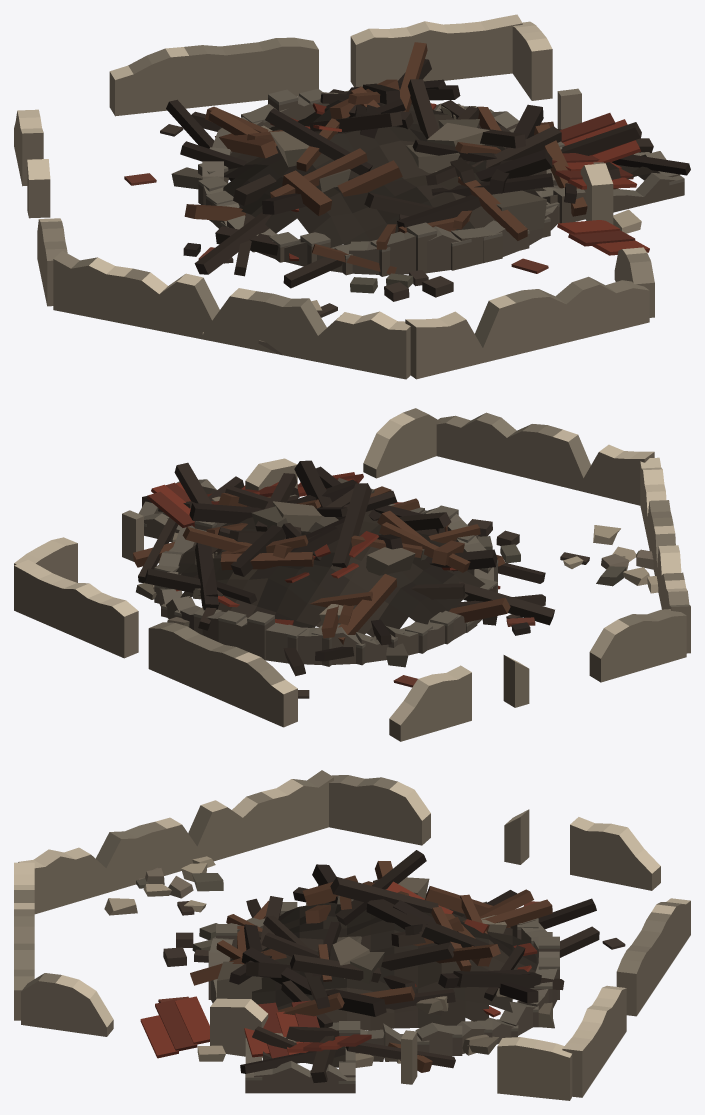
File: VerBuild04b.glb
3 views of the same model, one above another, from view 1: azimuth 30°, elevation 25°; view 2: azimuth 150°, elevation 25°; view 3: azimuth 270°, elevation 25° (orthographic). The views are drawn at different scales.
Parts seen in each view (by area): view 1: VerBuild04b_drum; view 2: VerBuild04b_drum; view 3: VerBuild04b_drum.
Part boxes in pixels (left/top/right/bottom): VerBuild04b_drum: left=14, top=14, right=690, bottom=379; VerBuild04b_drum: left=14, top=408, right=690, bottom=741; VerBuild04b_drum: left=14, top=770, right=690, bottom=1100.
Bounding box in the file's own units: 11.39 × 2.02 × 11.53.
